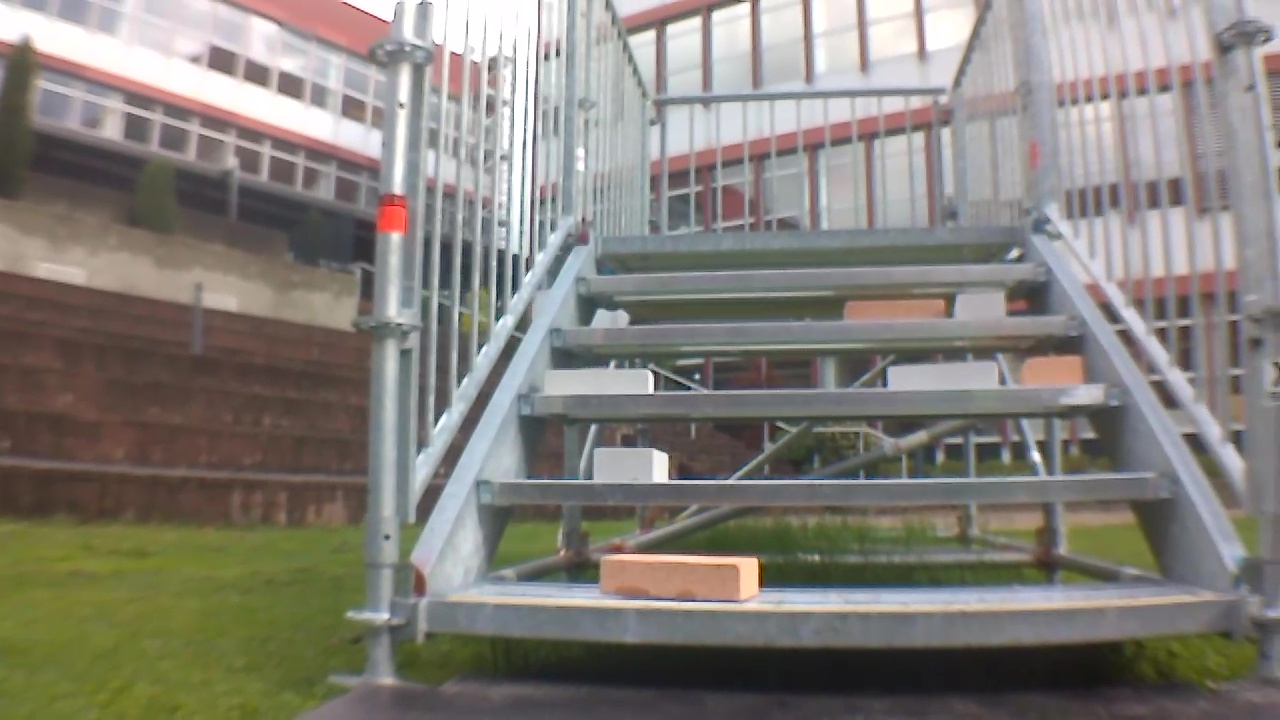brick: (602, 555, 757, 601), (888, 362, 997, 390), (544, 370, 652, 394), (594, 448, 668, 481), (843, 300, 943, 319), (1025, 357, 1081, 385), (955, 294, 1004, 317)
edge: (425, 594, 1233, 644), (478, 473, 1175, 505), (521, 383, 1130, 415), (551, 314, 1089, 344), (577, 263, 1050, 289), (603, 224, 1023, 249)
stairs: (354, 1, 1278, 673)
steps: (417, 213, 1246, 656)
